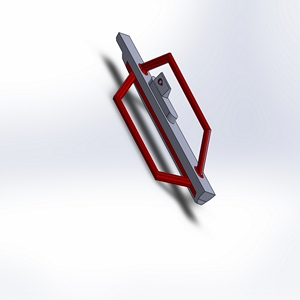submarine: (89, 18, 234, 223)
